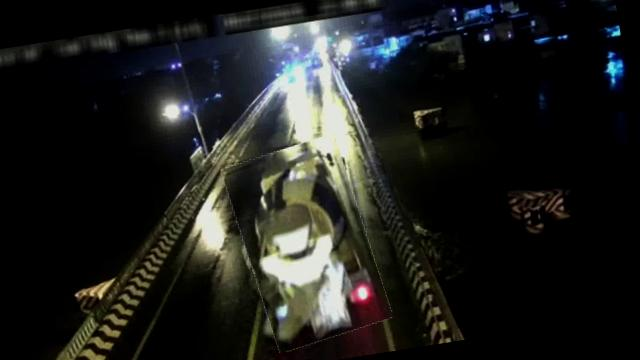Truck: (226, 133, 389, 352)
